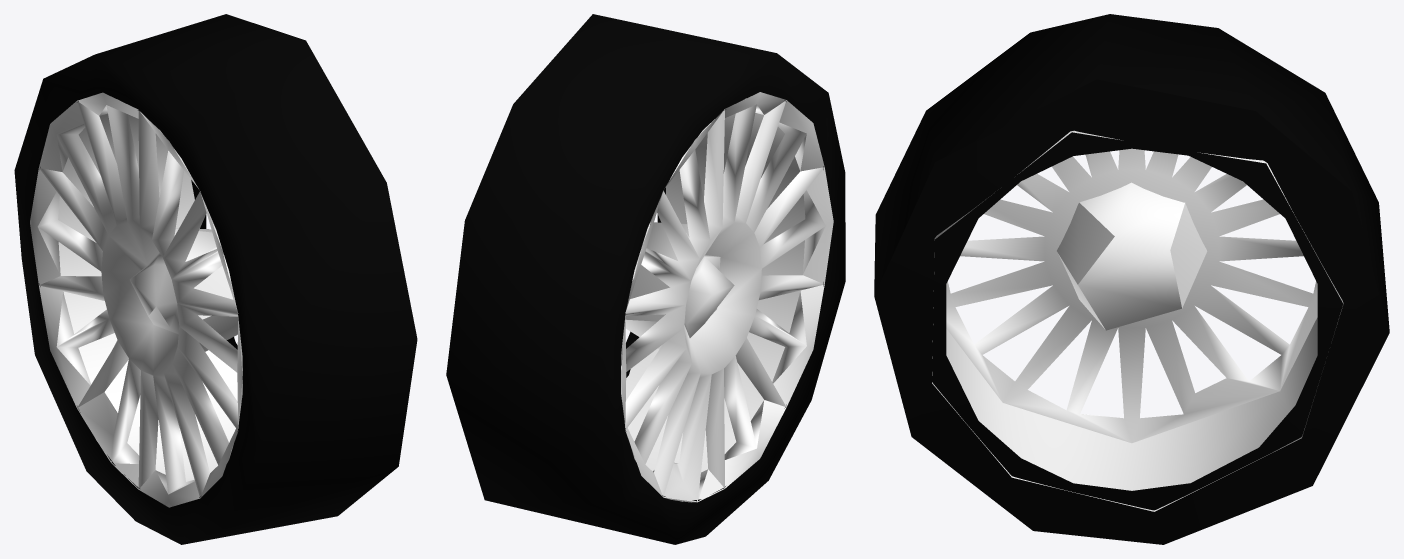
Rendered from lamborghini_gallardo_wheel.obj.
The picture shows the model from 3 angles, left to right: view 1: azimuth 30°, elevation 25°; view 2: azimuth 150°, elevation 25°; view 3: azimuth 270°, elevation 25°; orthographic projection.
Parts seen in each view (by area): view 1: lamborghini_gallardo_wheel; view 2: lamborghini_gallardo_wheel; view 3: lamborghini_gallardo_wheel.
Part boxes in pixels (x1,y1,x2,y2): lamborghini_gallardo_wheel: [14, 14, 417, 544]; lamborghini_gallardo_wheel: [446, 14, 845, 544]; lamborghini_gallardo_wheel: [874, 14, 1389, 544].
Size of the model in its own units: 0.2311 by 0.6309 by 0.6319.
